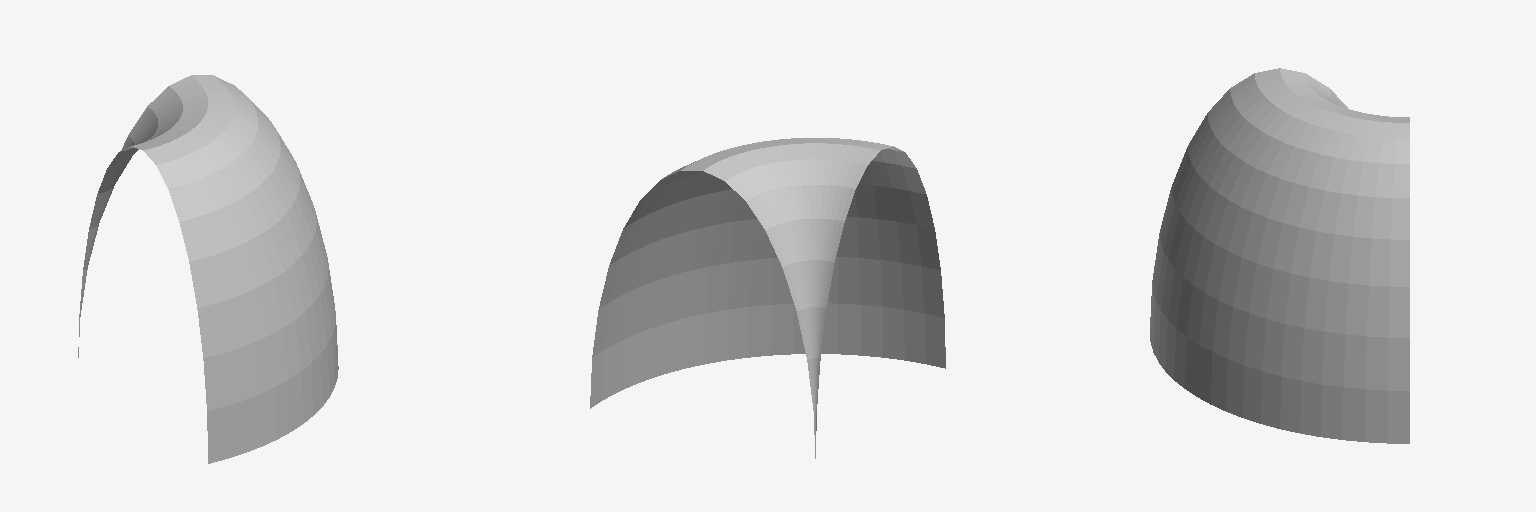
Rendered from connector_bend.obj.
3 renders of one model, left to right at view 1: azimuth 30°, elevation 25°; view 2: azimuth 150°, elevation 25°; view 3: azimuth 270°, elevation 25°, orthographic.
Visible parts, largest first — view 1: Connector_bend; view 2: Connector_bend; view 3: Connector_bend.
Boxes of the visible parts, <box> form: Connector_bend: <box>78,75,338,463</box>; Connector_bend: <box>590,138,945,458</box>; Connector_bend: <box>1150,68,1409,443</box>.
Bounding box in the file's own units: 2 × 2.25 × 2.